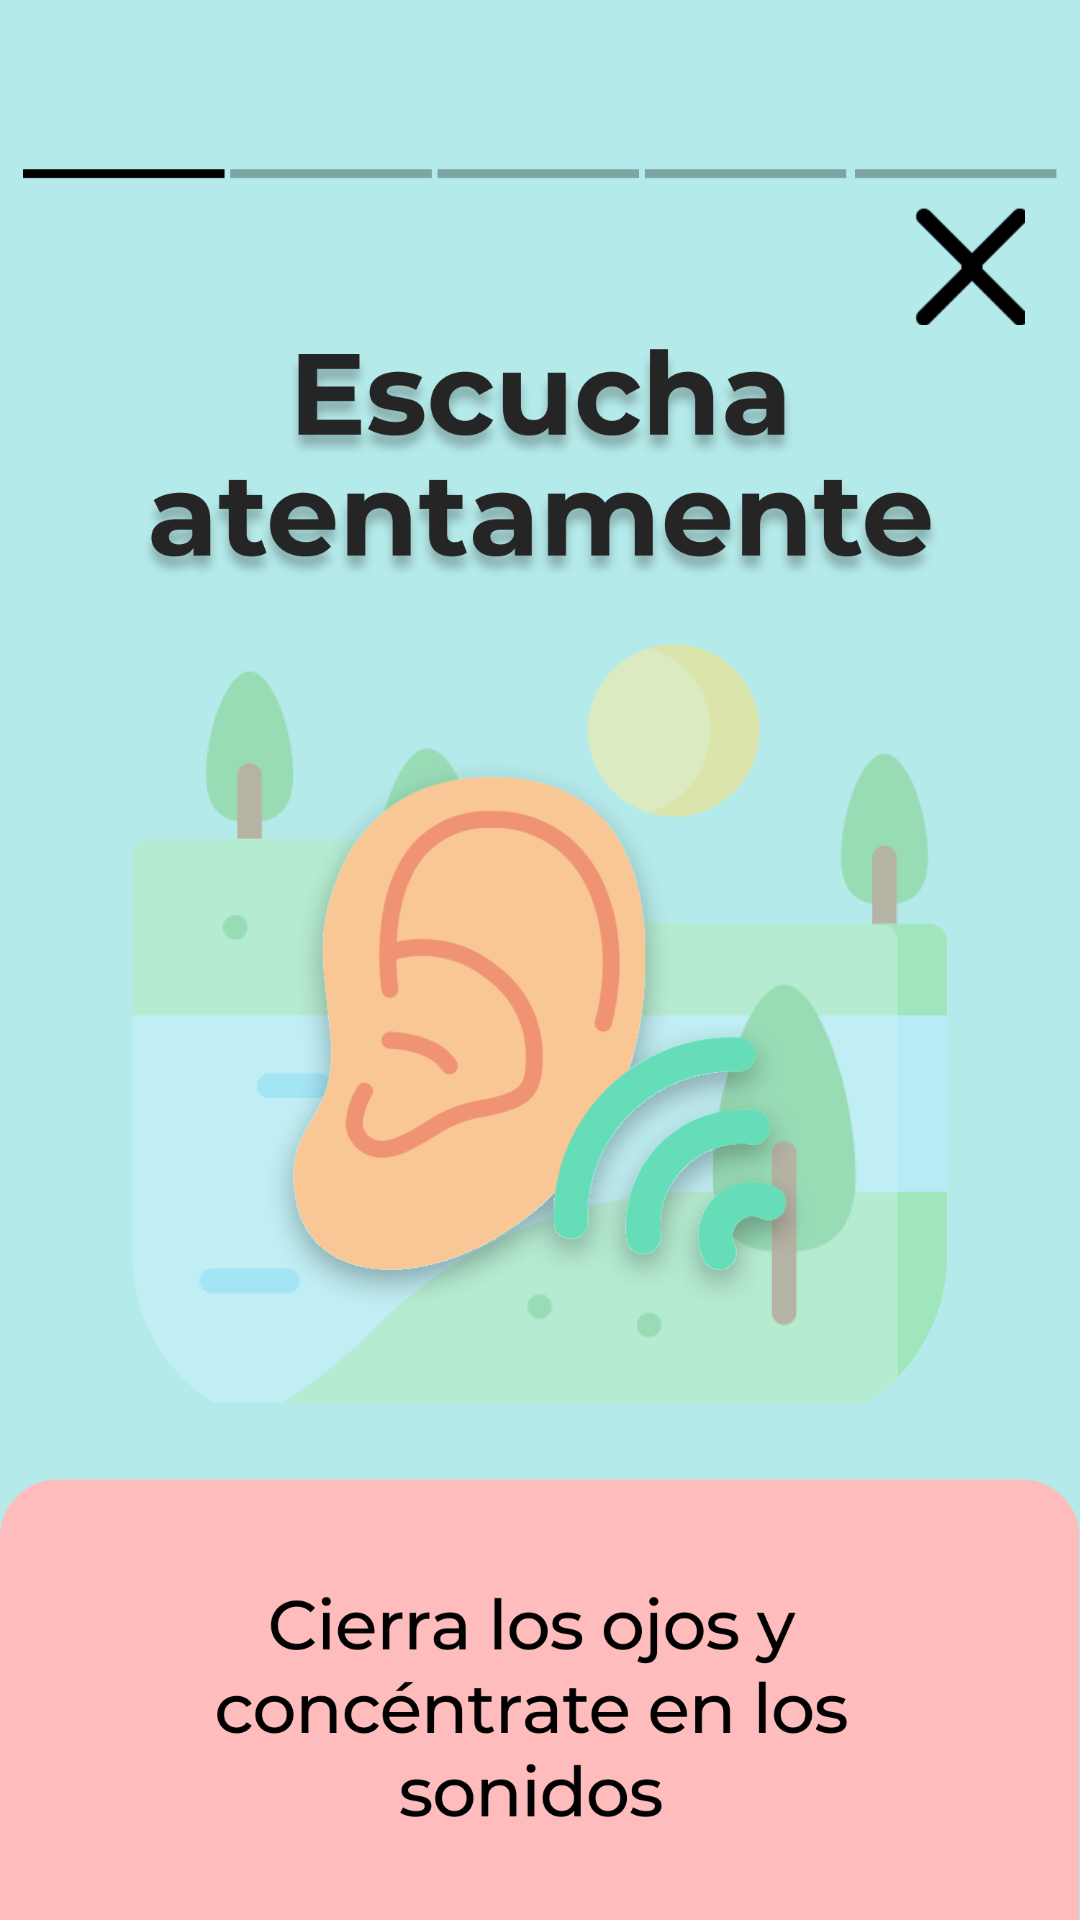

Where icons sit on this 1080*1920 app screen, as (x1=x1, y1=y1, x2=x2, y2=y2):
exit: (x1=915, y1=208, x2=1025, y2=325)
